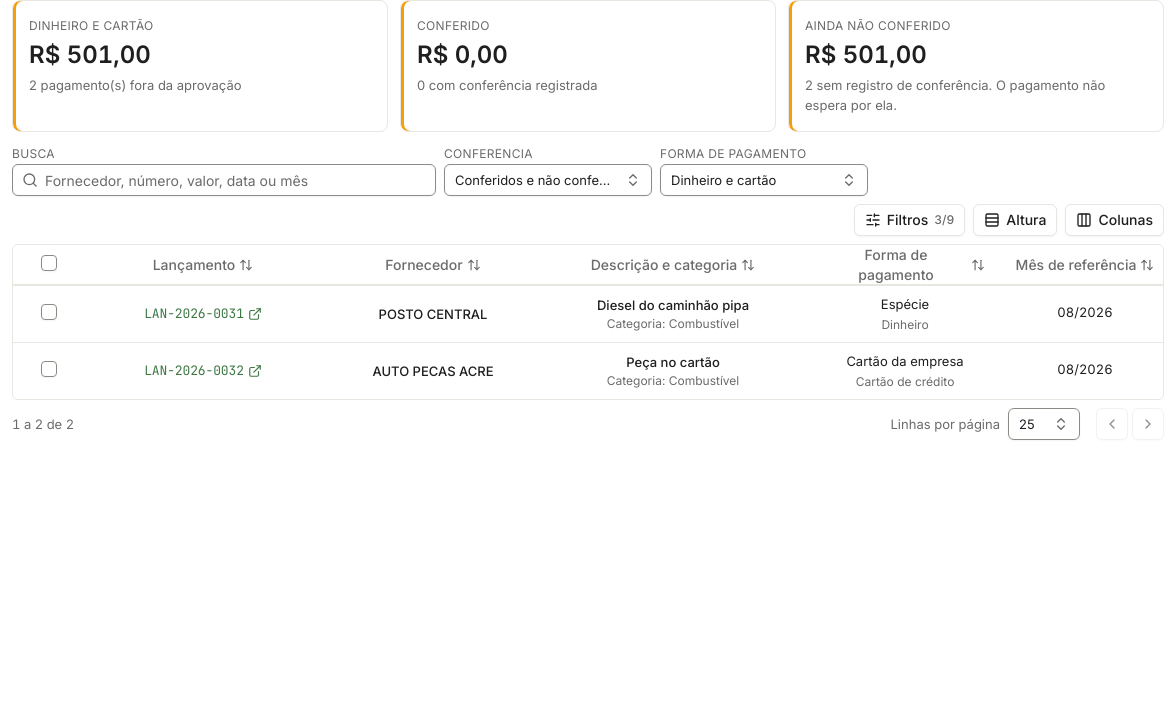
Barra de seleção de PagamentosDiretos › marcar linhas mostra o botão de espelho com a contagem certa
The image size is (1176, 720).
Click the checkbox named "Selecionar todos os pagamentos" at (49, 263), box [41, 255, 57, 271]
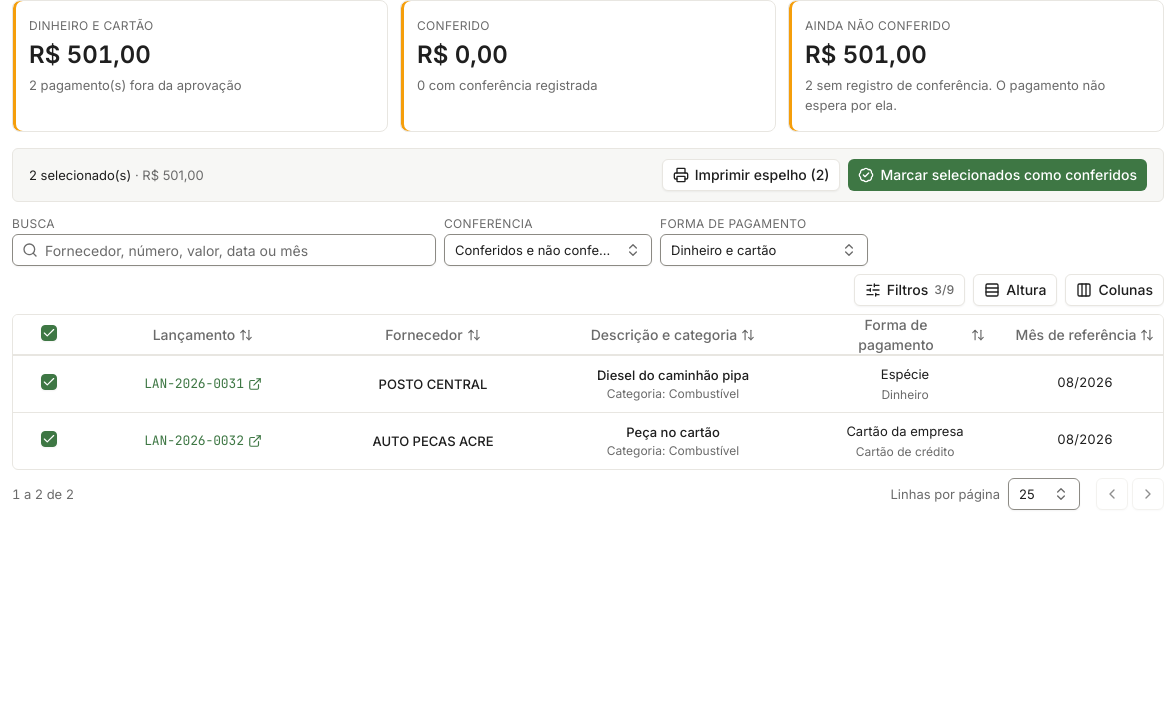
expect the button "Imprimir espelho (2)" is shown: met, box [662, 159, 840, 191]
